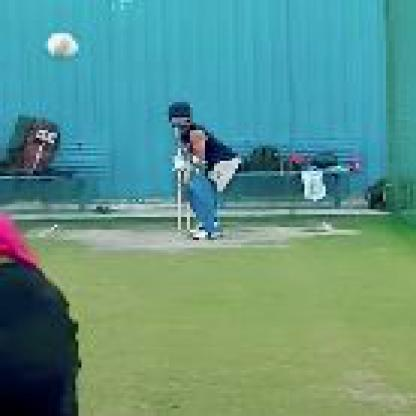ball: (45, 29, 82, 61)
